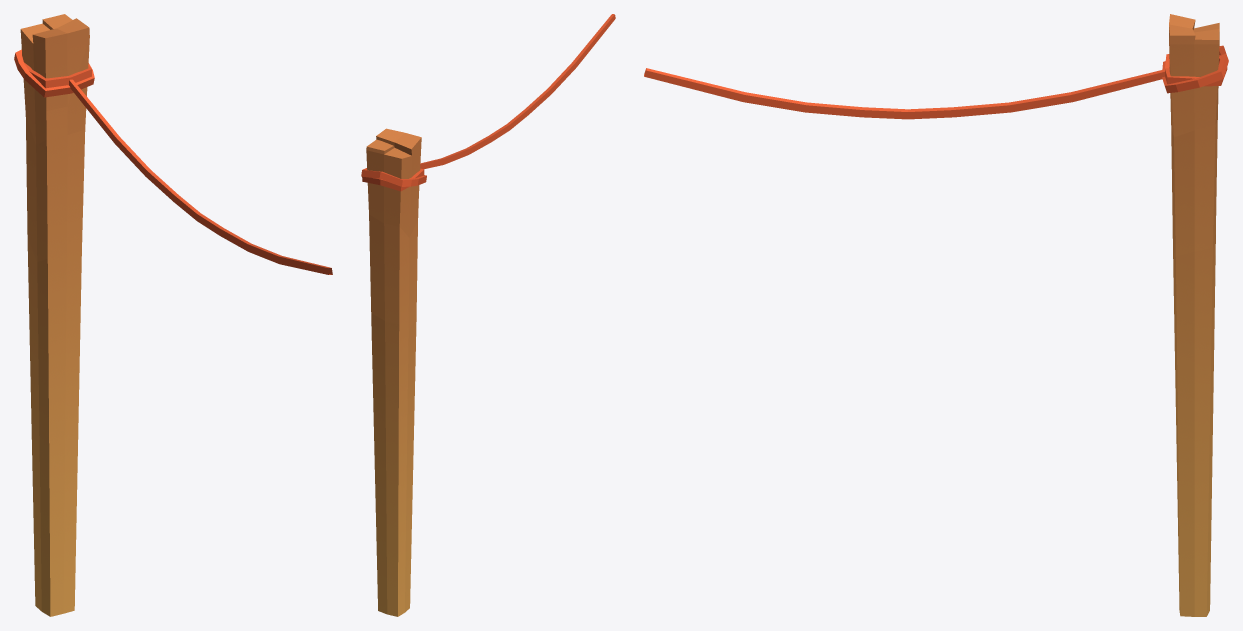
The model's file is SinglePole.fbx.
3 renders of one model, left to right at view 1: azimuth 30°, elevation 25°; view 2: azimuth 150°, elevation 25°; view 3: azimuth 270°, elevation 25°, orthographic. The views are drawn at different scales.
Parts seen in each view (by area): view 1: SinglePole; view 2: SinglePole; view 3: SinglePole.
Part boxes in pixels (x1,y1,x2,y2): SinglePole: [14, 14, 332, 616]; SinglePole: [361, 14, 615, 616]; SinglePole: [644, 14, 1228, 616].
Size of the model in its own units: 161 by 1476 by 1337.
1 material, 1 textured.
